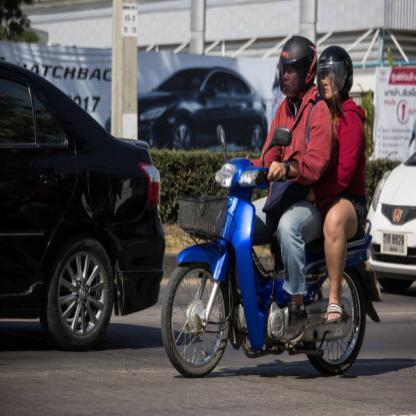Motorcycle: (152, 139, 380, 388)
